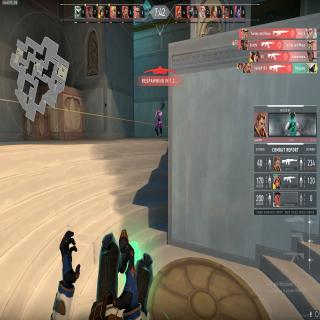ENEMY-BODY: (155, 107, 162, 137)
ENEMY-HEAD: (158, 108, 160, 113)
